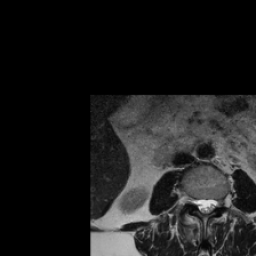CCS_normal: (202, 192, 209, 219)
LFS_normal: (216, 192, 223, 210)
LLS_normal: (209, 193, 216, 215)
RFS_normal: (190, 190, 197, 209)
RLS_normal: (197, 192, 202, 216)
